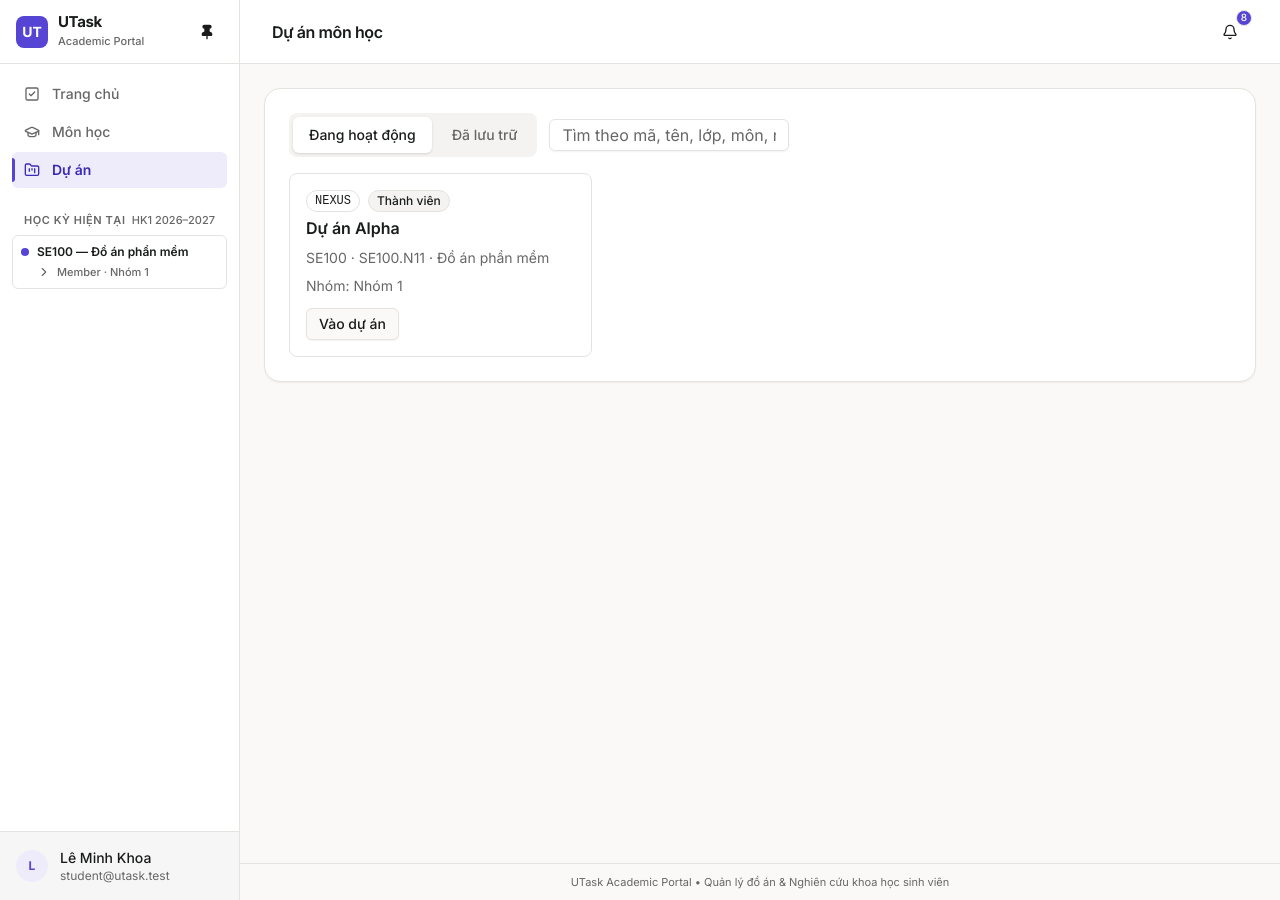
Test: /projects at real Work service › tab active shows active project, tab archived shows archived project
Expected: the link "Dự án Alpha" is shown, [306,218,400,238]
Expected: the text "Dự án Beta" is not shown
Click the tab "Đã lưu trữ" at [485, 135], box [436,117,533,153]
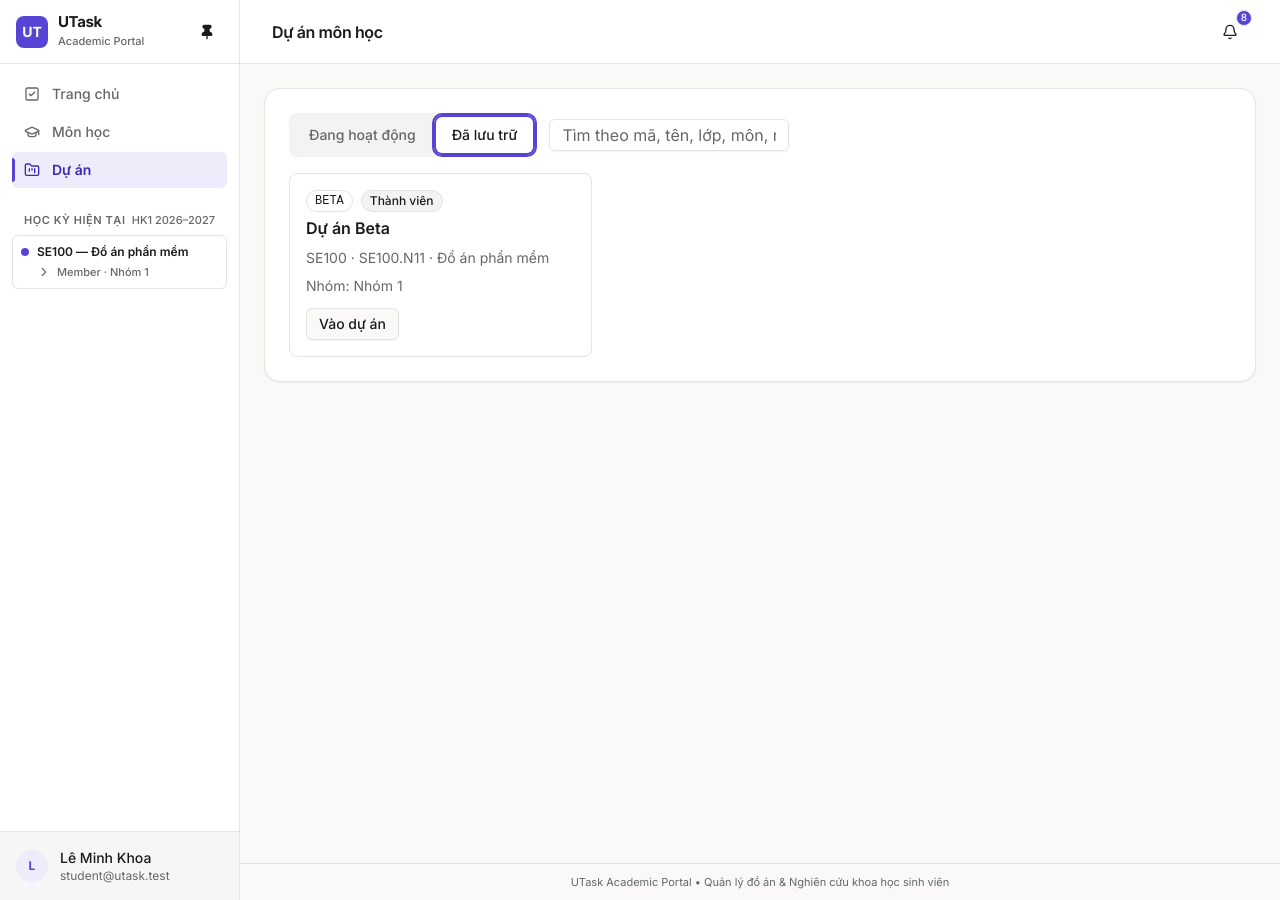
Expected: the link "Dự án Beta" is shown, [306,218,390,238]
Expected: the link "Dự án Alpha" is gone
